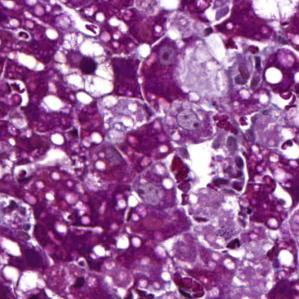ballooning: (49, 31, 119, 98)
